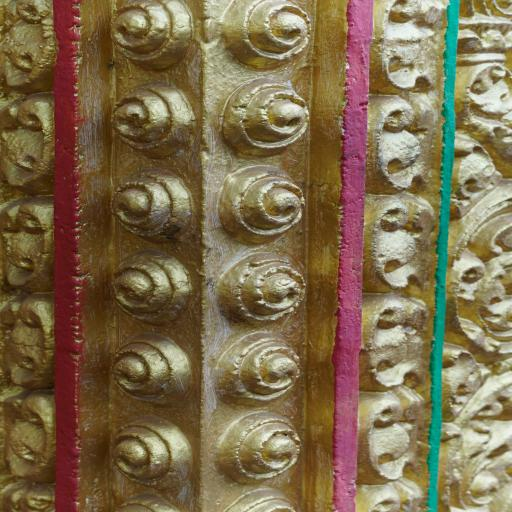hoa: (205, 74, 310, 154), (208, 243, 308, 326), (102, 164, 205, 244), (204, 331, 302, 414), (104, 79, 198, 160), (99, 0, 198, 75), (104, 330, 194, 412), (215, 162, 302, 246), (106, 244, 197, 324), (213, 410, 308, 483), (215, 0, 311, 72), (109, 413, 191, 485)
la: (362, 188, 438, 299), (353, 383, 430, 483), (368, 88, 440, 194), (359, 290, 432, 390), (2, 90, 64, 200), (374, 0, 445, 92), (0, 387, 63, 483), (0, 192, 53, 299), (2, 295, 58, 395), (0, 0, 53, 90)
